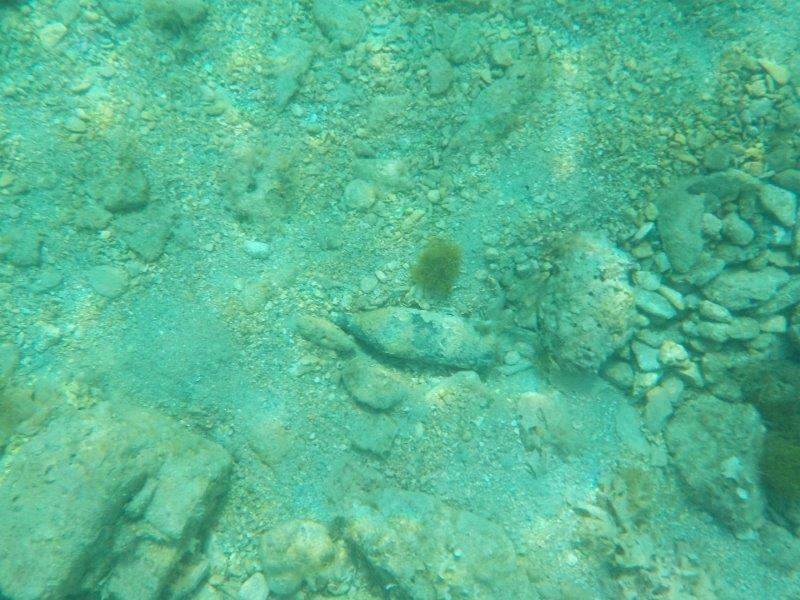bottle: (325, 303, 502, 374)
